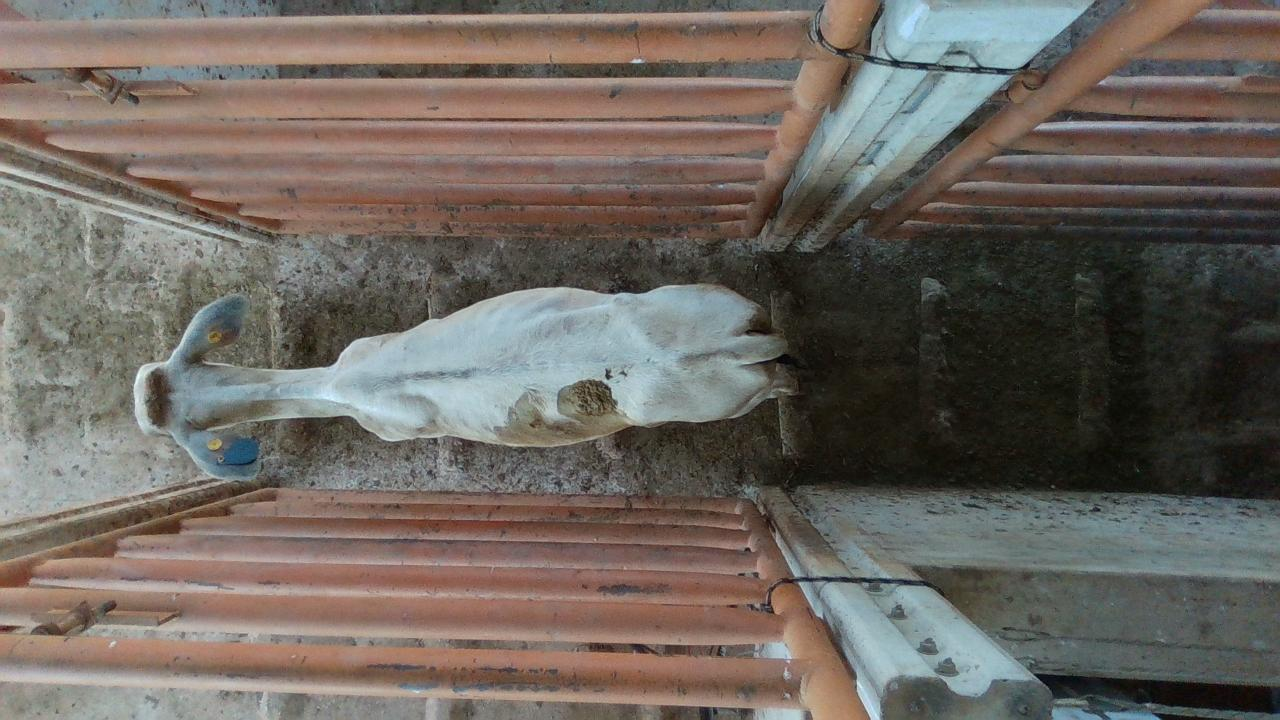cattle: (132, 280, 803, 481)
